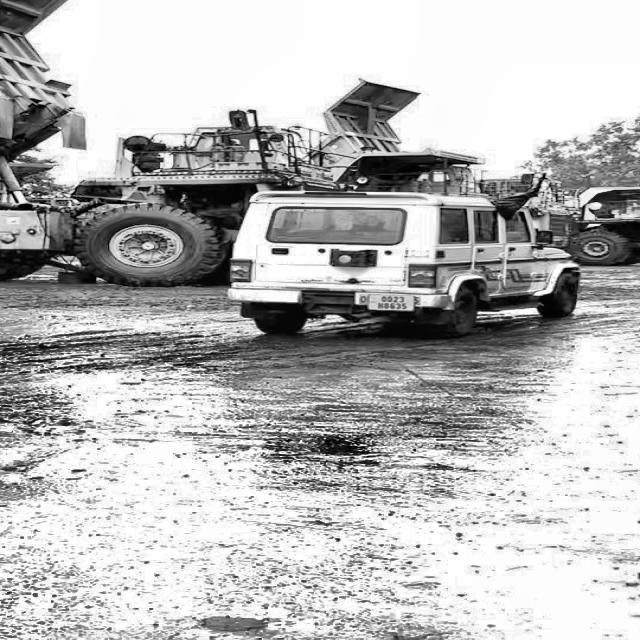dump_truck: (0, 0, 232, 274)
light_vehicle: (223, 187, 589, 339)
